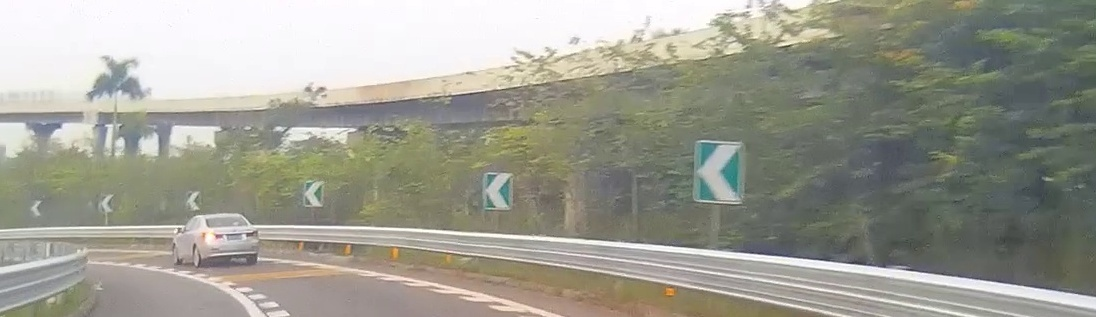L_light: (203, 233, 224, 240)
R_light: (246, 230, 258, 238)
T_light: (221, 218, 230, 220)
day-left: (200, 213, 260, 268)
